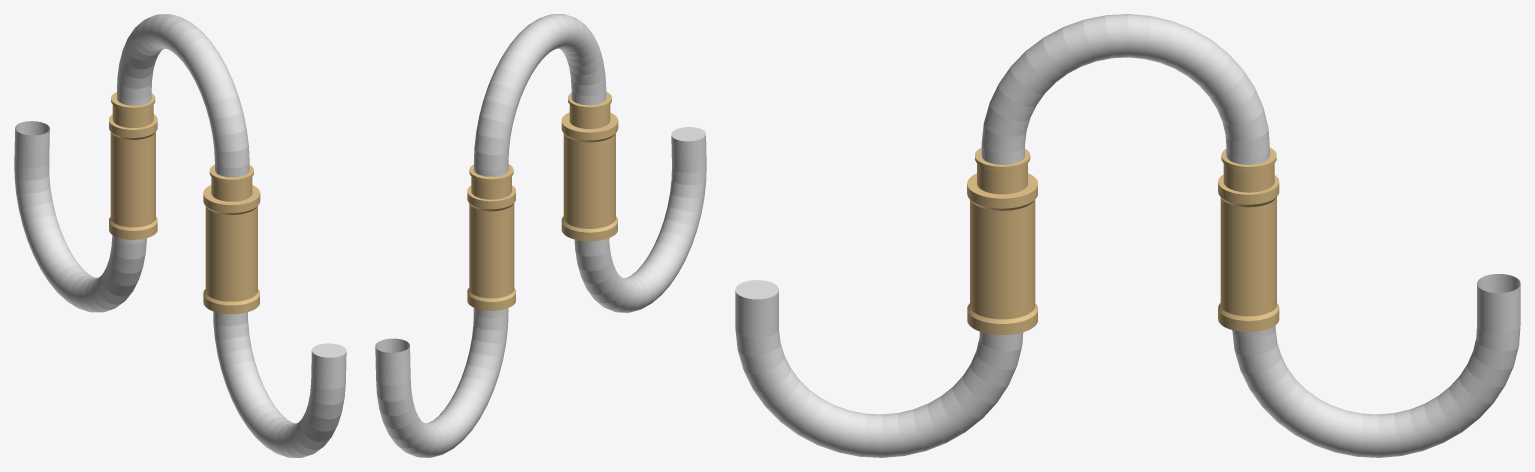
Rendered from wirepuzcomeasy.fbx.
The picture shows the model from 3 angles, left to right: view 1: azimuth 30°, elevation 25°; view 2: azimuth 150°, elevation 25°; view 3: azimuth 270°, elevation 25°; orthographic projection. The views are drawn at different scales.
Parts seen in each view (by area): view 1: Cube.043; view 2: Cube.043; view 3: Cube.043.
Part boxes in pixels (x1=…): Cube.043: x1=14, y1=14, x2=346, y2=457; Cube.043: x1=375, y1=14, x2=706, y2=457; Cube.043: x1=735, y1=14, x2=1520, y2=457.
Size of the model in its own units: 208 by 1429 by 2299.
